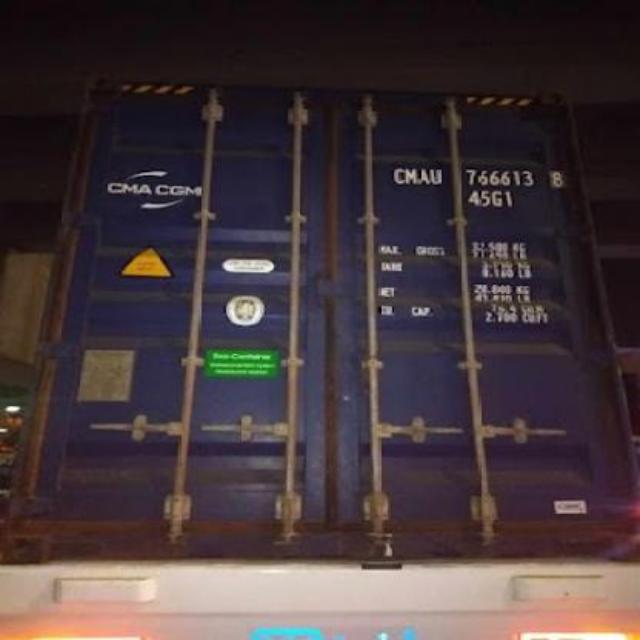1: (512, 168, 524, 188)
3: (524, 170, 534, 186)
6: (498, 170, 512, 186), (488, 172, 500, 186), (480, 170, 488, 186)
7: (466, 170, 478, 186)
8: (552, 172, 562, 185)
A: (420, 169, 430, 185)
C: (392, 167, 406, 183)
M: (406, 168, 418, 184)
U: (430, 169, 442, 185)
